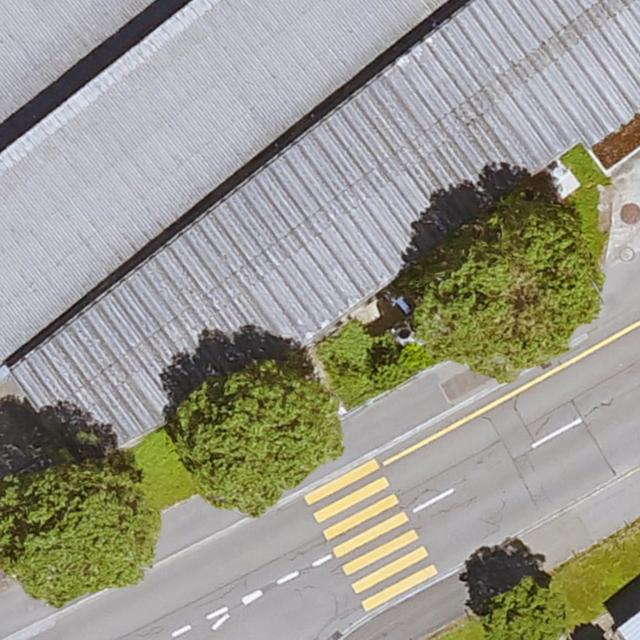tree: (408, 195, 597, 376), (172, 358, 343, 517), (3, 454, 160, 607), (481, 577, 568, 640), (372, 363, 405, 389)
